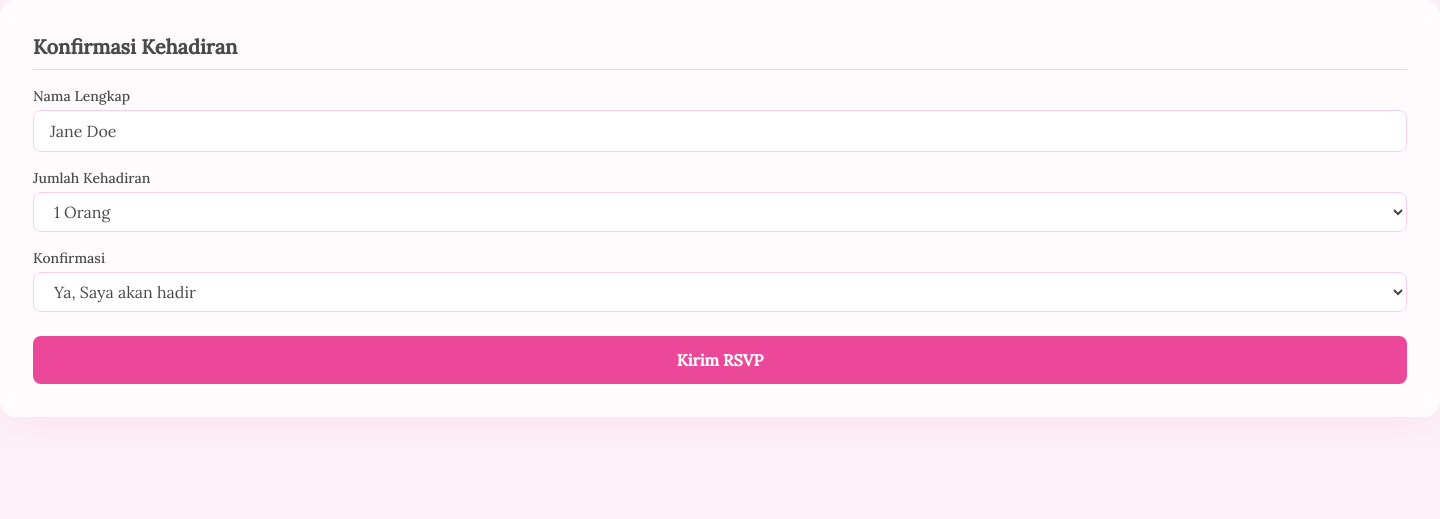
RsvpForm Component › shows "Coba Lagi" button text after error
The width and height of the screenshot is (1440, 519).
Click the button "Kirim RSVP" at (720, 360), box [33,336,1407,384]
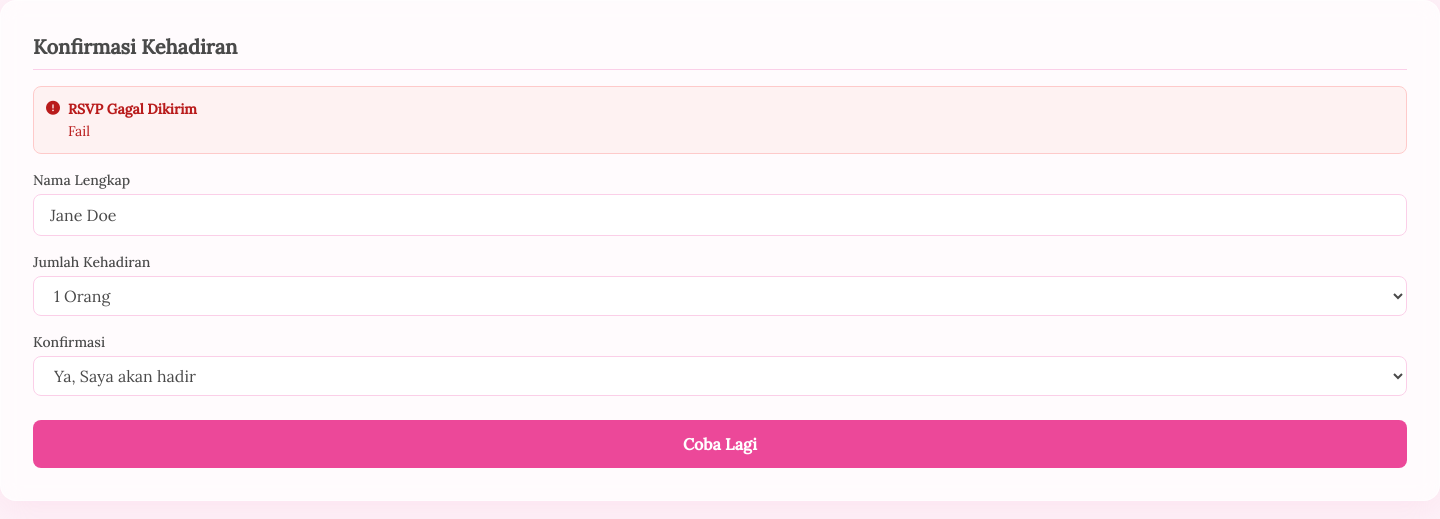
Expected: the button "Coba Lagi" is shown, [33,420,1407,468]
